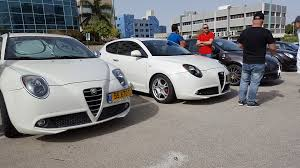licence: (107, 86, 134, 104)
